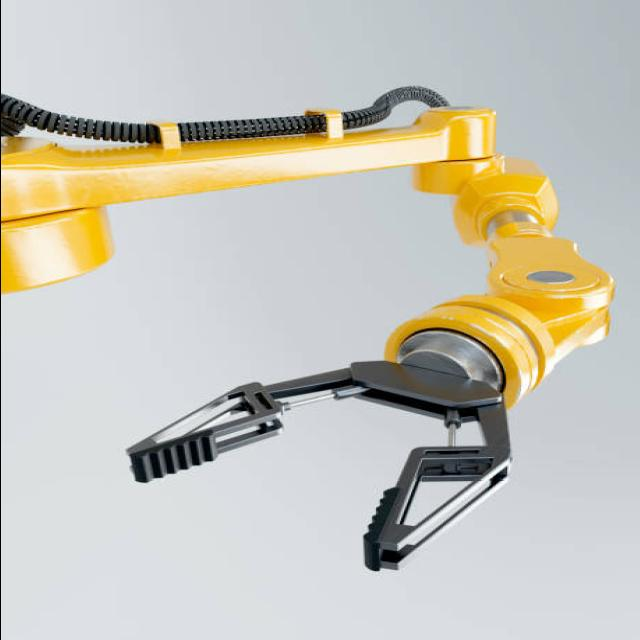Robotic-arm: (0, 82, 623, 575)
